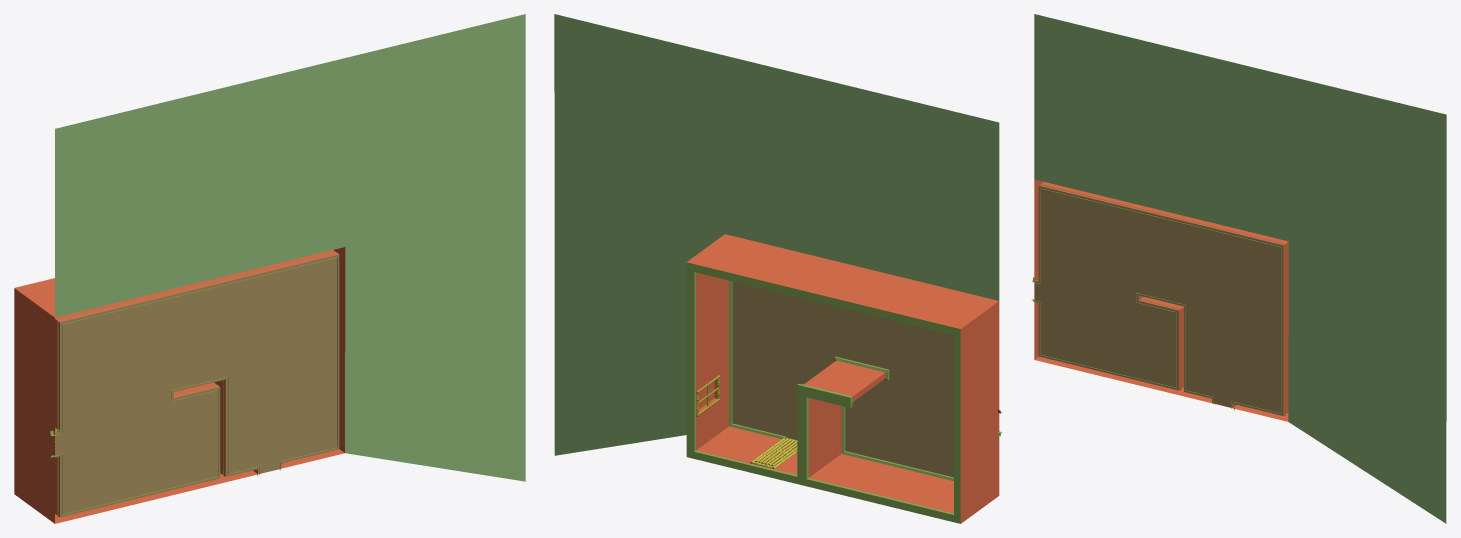
Rendered from Env_LivingRoom.fbx.
3 views of the same model, side by side, from view 1: azimuth 30°, elevation 25°; view 2: azimuth 150°, elevation 25°; view 3: azimuth 330°, elevation 25° (orthographic). The views are drawn at different scales.
Visible parts, largest first — view 1: Env_LivingRoom; view 2: Env_LivingRoom, Env_LivingRoomDoorB; view 3: Env_LivingRoom.
Boxes of the visible parts, x1,y1,x2,y2 form: Env_LivingRoom: [14, 14, 525, 523]; Env_LivingRoom: [554, 14, 1002, 523]; Env_LivingRoomDoorB: [755, 437, 797, 466]; Env_LivingRoom: [1031, 14, 1446, 523].
Size of the model in its own units: 10.18 by 9.6 by 1.53.
